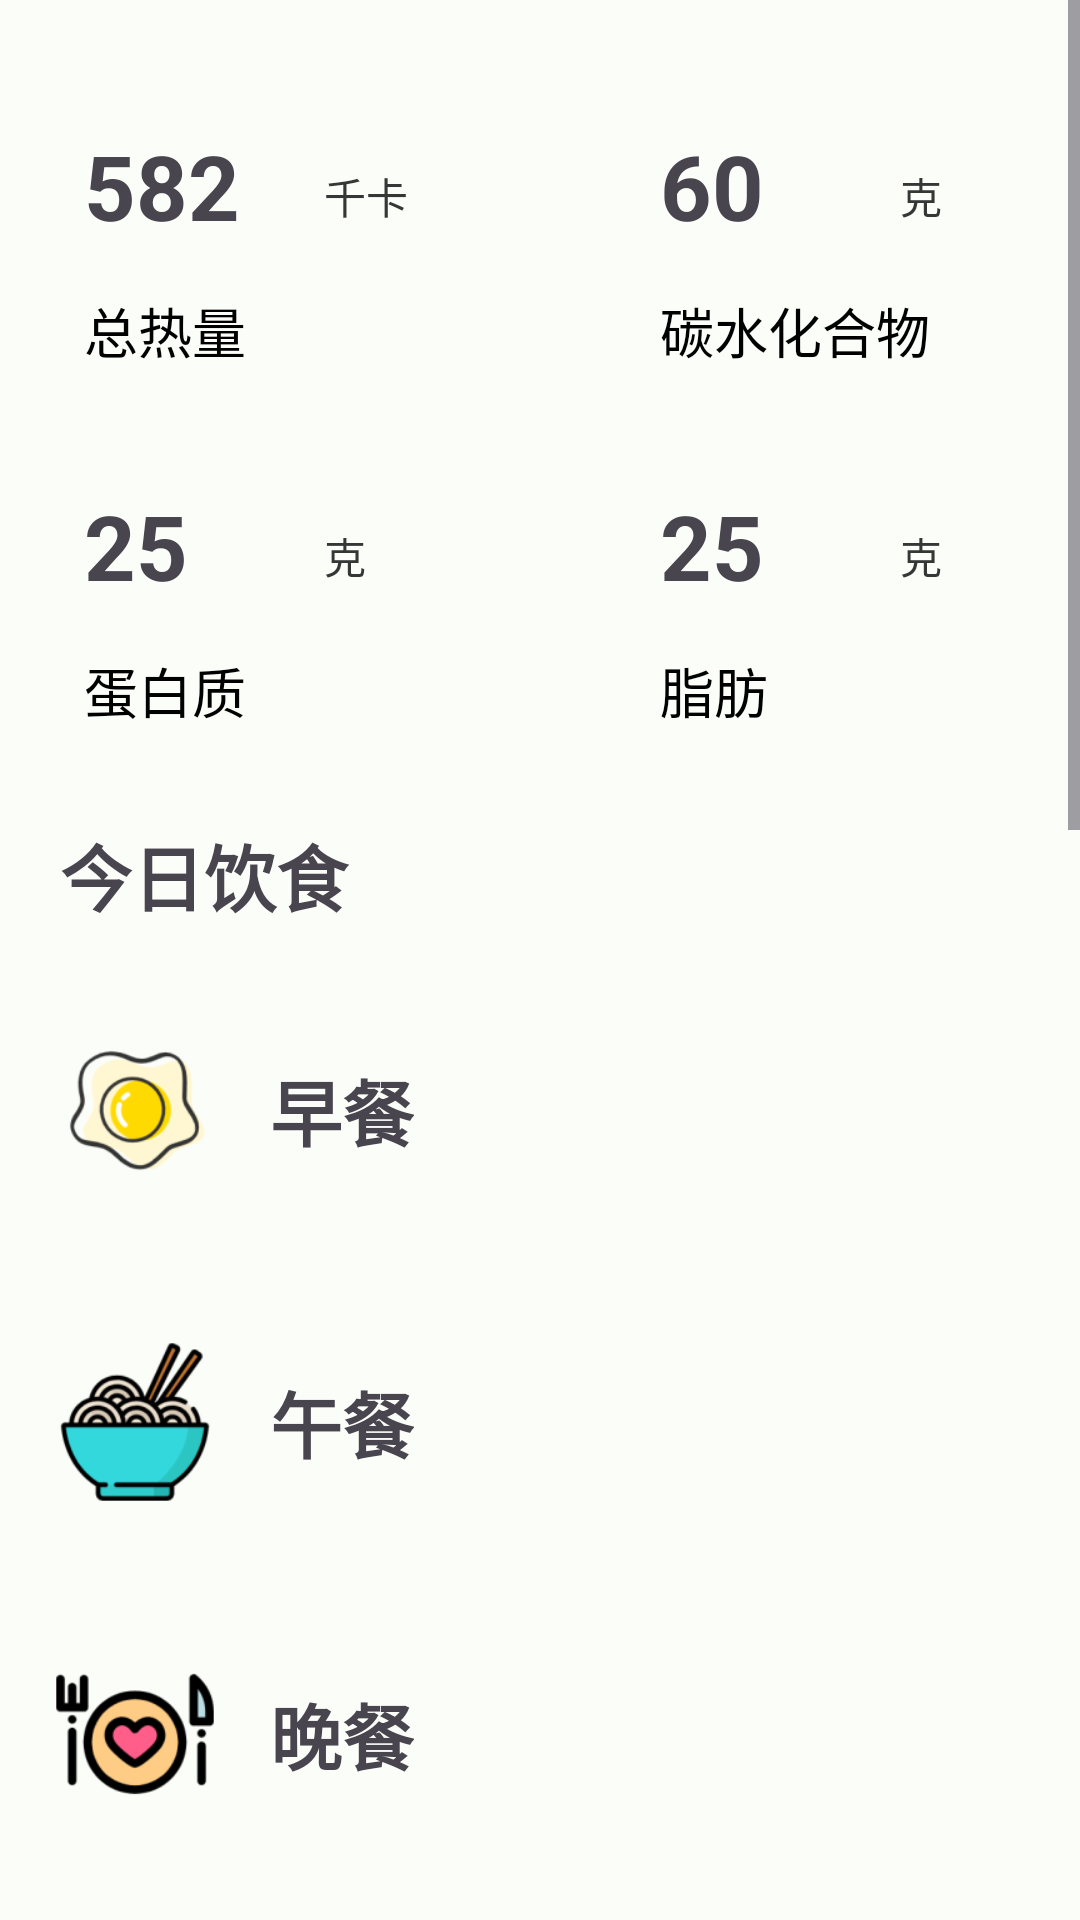

Where icons sit on this 1080 x 1920 app screen, as (x1, y1, x2, y2):
breakfast: (70, 1051, 204, 1170)
dinner: (56, 1674, 214, 1794)
lunch: (60, 1343, 210, 1501)
